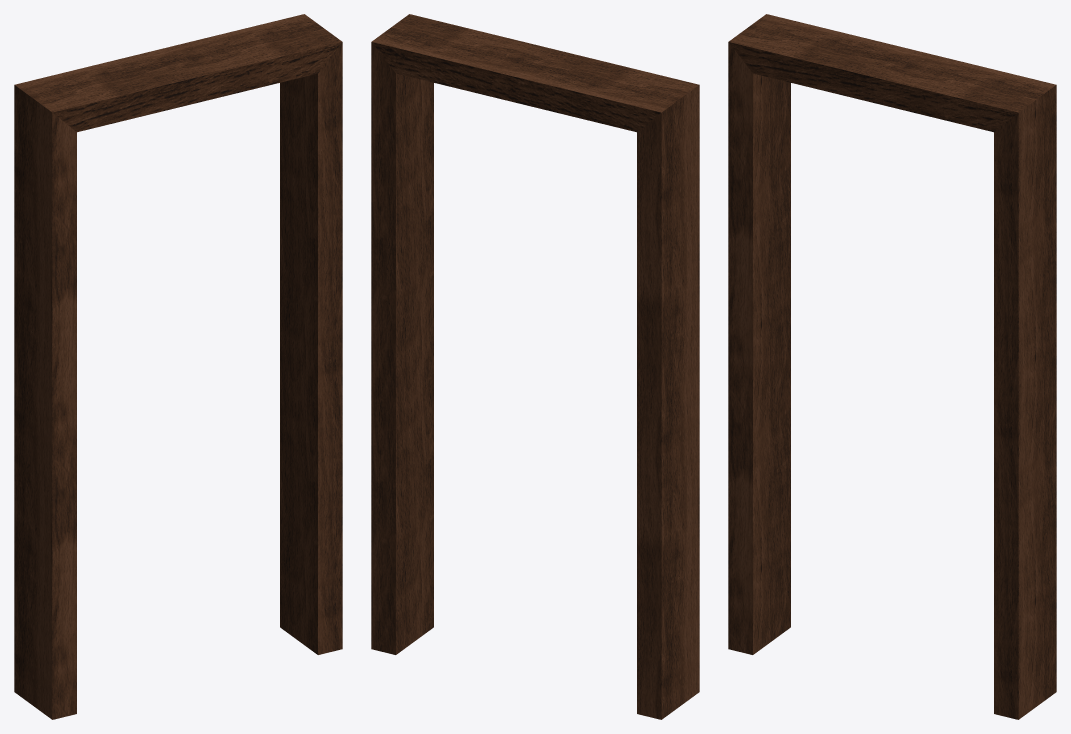
Rendered from door_009.fbx.
The picture shows the model from 3 angles, left to right: view 1: azimuth 30°, elevation 25°; view 2: azimuth 150°, elevation 25°; view 3: azimuth 330°, elevation 25°; orthographic projection.
Visible parts, largest first — view 1: door_009; view 2: door_009; view 3: door_009.
Boxes of the visible parts, bbox=[...] form: door_009: bbox=[14, 14, 342, 719]; door_009: bbox=[371, 14, 699, 719]; door_009: bbox=[728, 14, 1056, 719].
Size of the model in its own units: 115 by 26.01 by 229.
